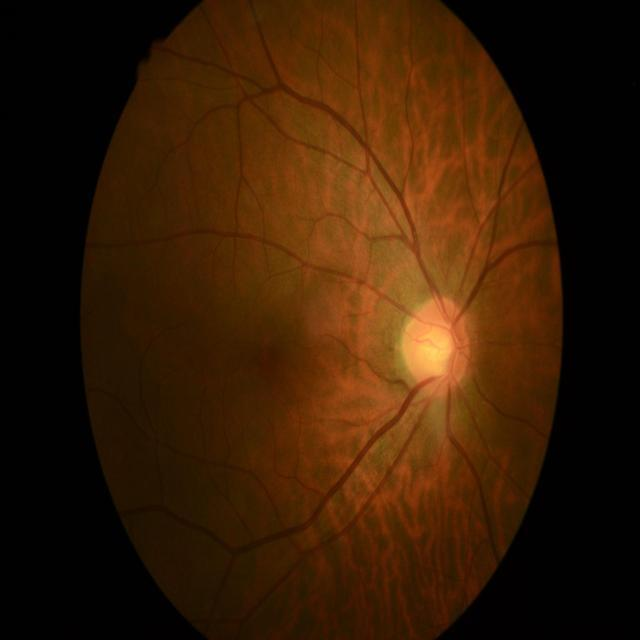cup: (420, 324, 460, 379)
disk: (403, 297, 471, 395)
